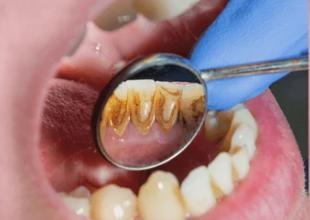Plaque: (132, 88, 156, 132), (156, 86, 179, 129), (110, 92, 130, 133), (191, 93, 207, 124)
